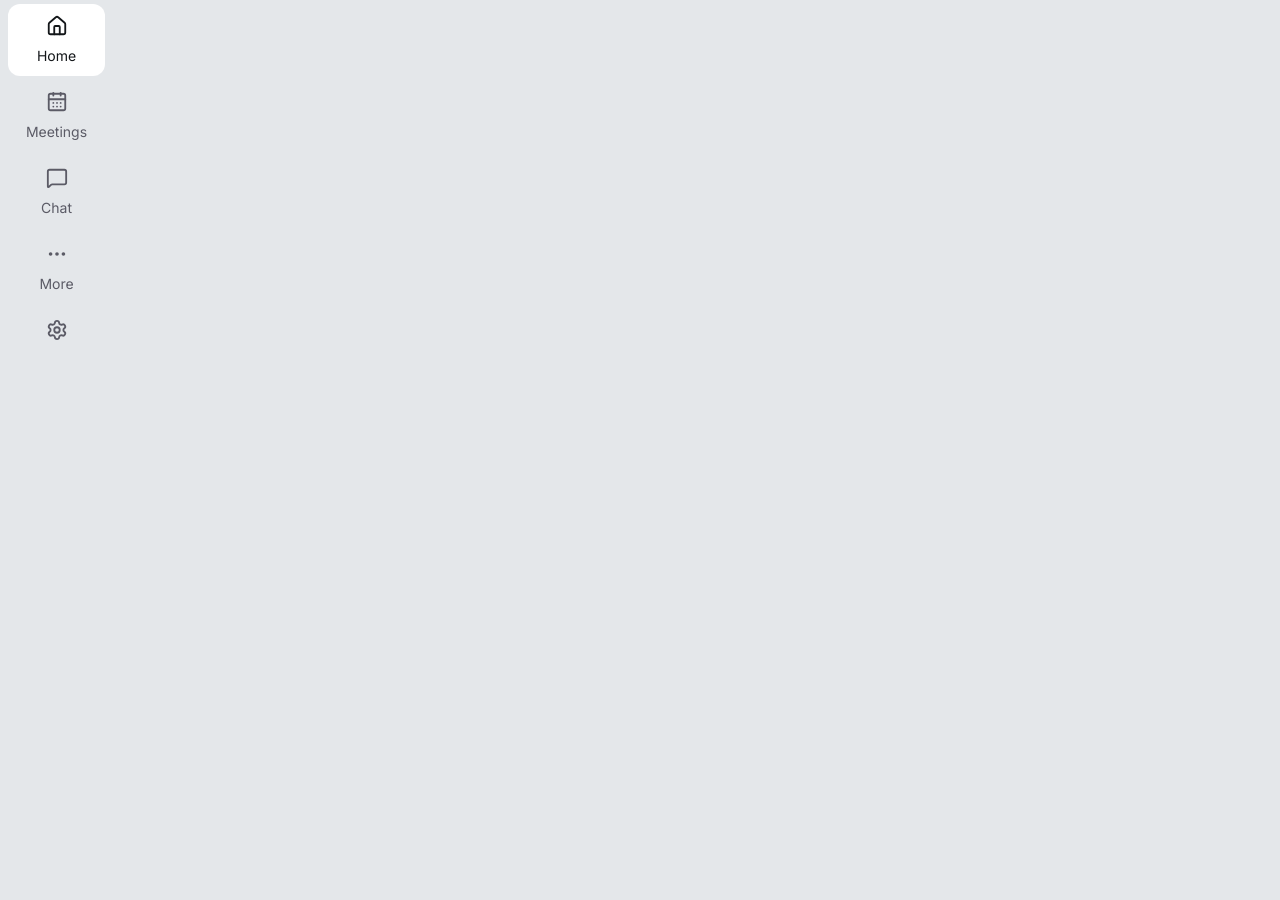
IconRail › gives an open More a blue outline rather than the white pill (OBSERVED §2)
The width and height of the screenshot is (1280, 900).
Step 1. Click the button with aria-label "More apps" → (56, 268), box [8,232,105,304]
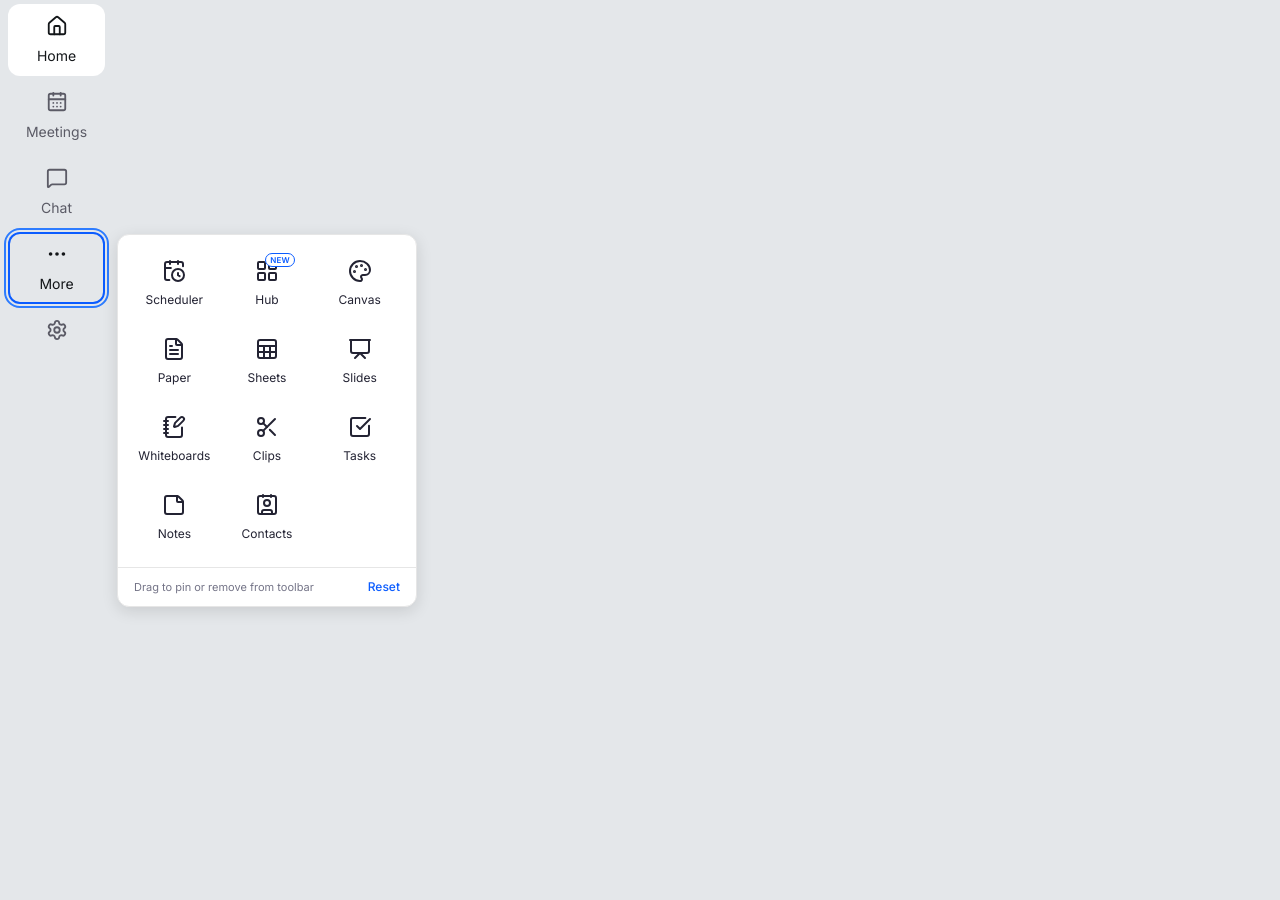
Check: the button with aria-label "More apps" is expanded, box [8,232,105,304]
